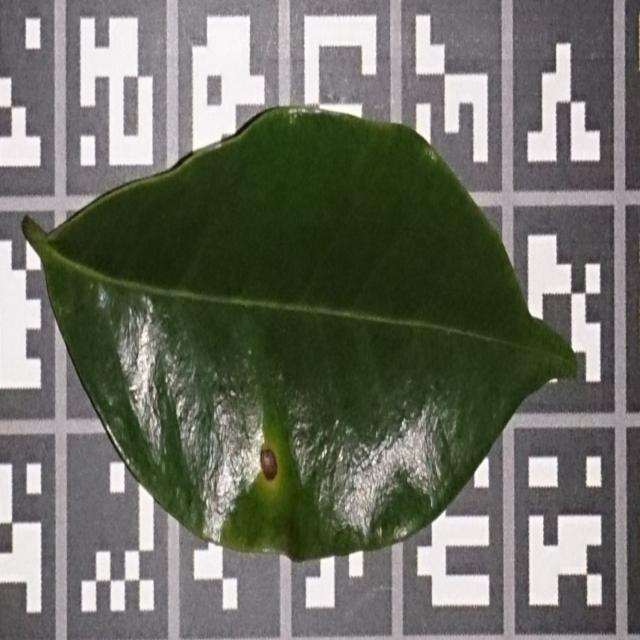Enfermedad-Mancha-de-hierro: (21, 106, 578, 565)
